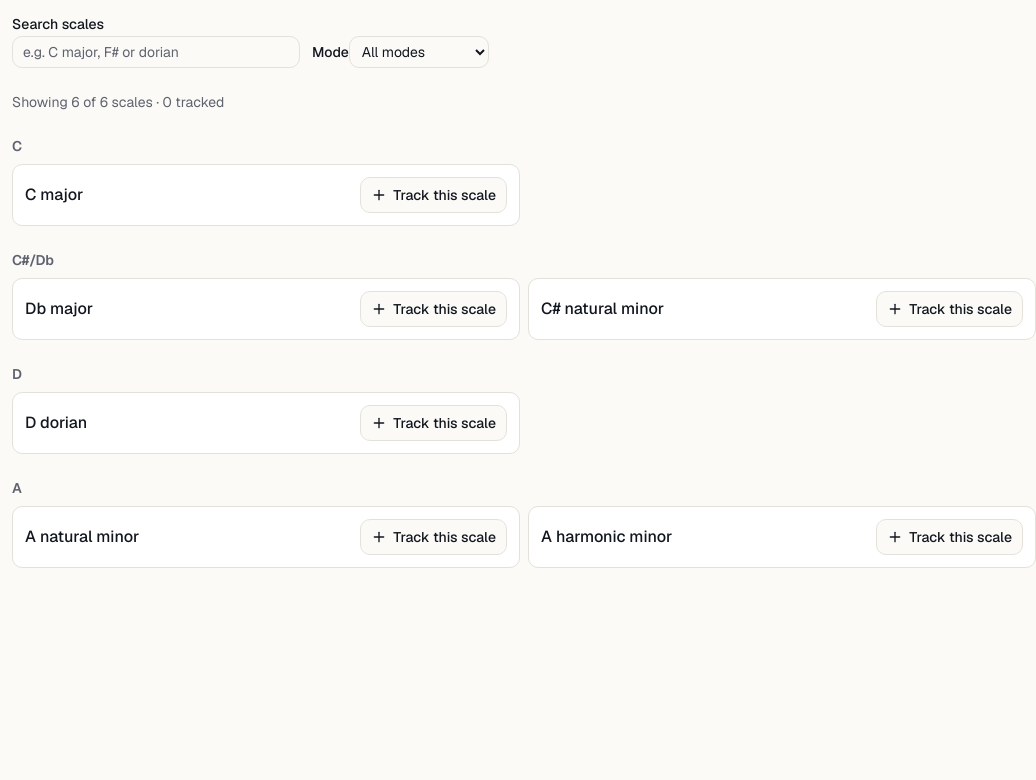
Test: ScaleCatalog › searches by mode words
Step 1. Type "a harm" into the search field labelled "Search scales" → x=156, y=52, box [12,36,300,68]
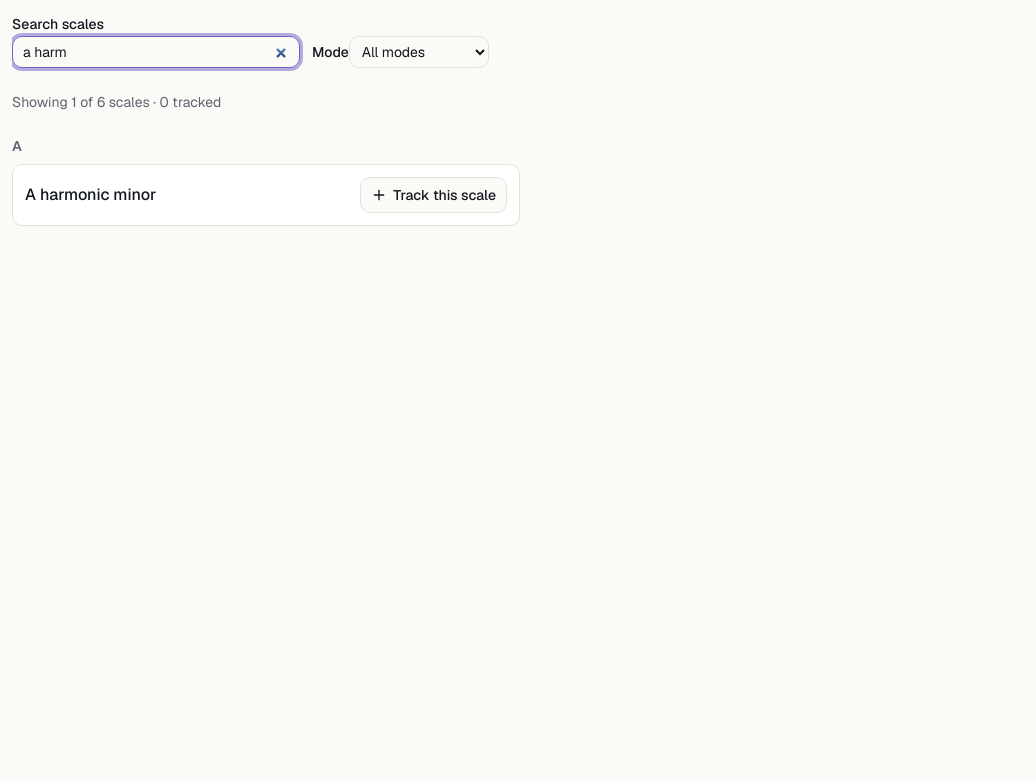
Expected: the text "A harmonic minor" is shown, [25,183,156,207]
Expected: the number of list items is 1, [12,164,520,226]
